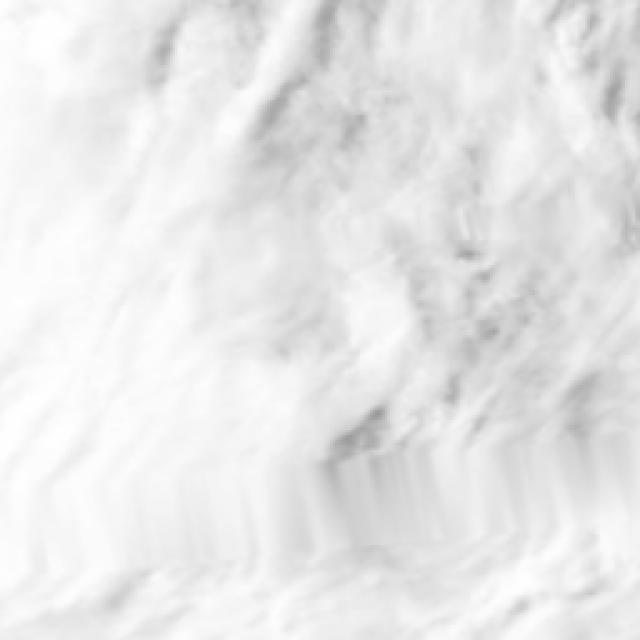CB: (6, 77, 271, 639)
